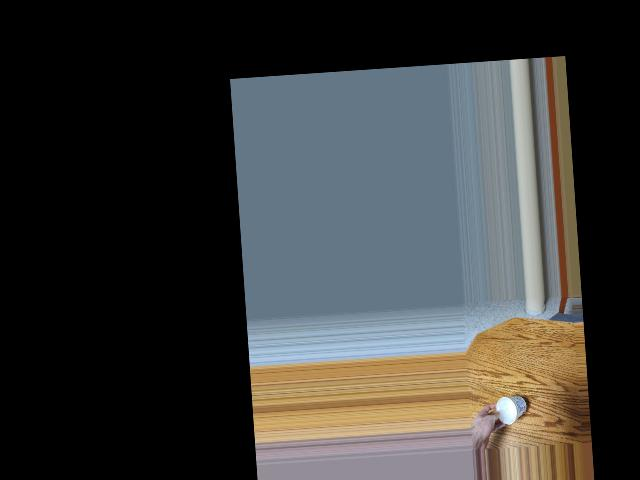cotage: (495, 396, 525, 419)
